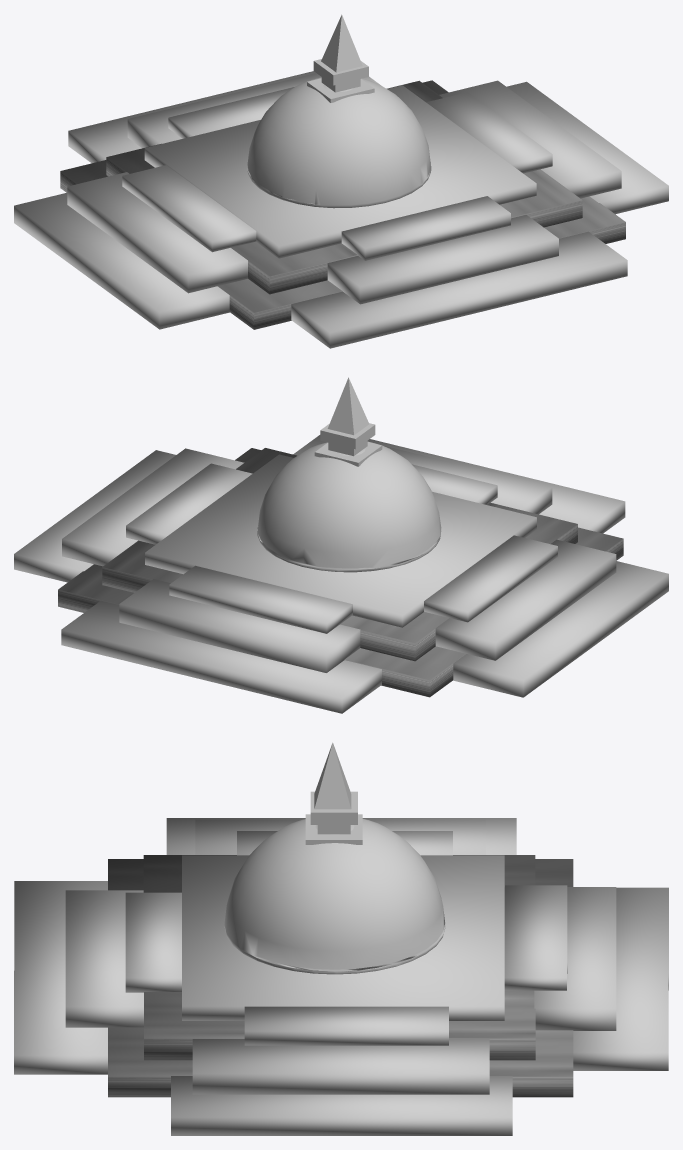
File: stupa.obj
3 views of the same model, one above another, from view 1: azimuth 30°, elevation 25°; view 2: azimuth 150°, elevation 25°; view 3: azimuth 270°, elevation 25° (orthographic). The views are drawn at different scales.
Parts seen in each view (by area): view 1: Cube.014_Cube.016, Sphere, Cube.004_Cube.006, Cube.002_Cube.004, Cube.005_Cube.007, Cube.007_Cube.009, Cube.009_Cube.011, Cube_Cube.001, Cube.006_Cube.008, Cube.010_Cube.012, Cube.012_Cube.014, Cube.003_Cube.005 (+7 smaller); view 2: Cube.014_Cube.016, Sphere, Cube.001_Cube.003, Cube.002_Cube.004, Cube.008_Cube.010, Cube.007_Cube.009, Cube.009_Cube.011, Cube_Cube.001, Cube.013_Cube.015, Cube.006_Cube.008, Cube.012_Cube.014, Cube.003_Cube.005 (+7 smaller); view 3: Cube.014_Cube.016, Sphere, Cube.006_Cube.008, Cube.003_Cube.005, Cube.004_Cube.006, Cube.001_Cube.003, Cube.009_Cube.011, Cube_Cube.001, Cube.005_Cube.007, Cube.008_Cube.010, Cube.011_Cube.013, Cube.013_Cube.015 (+7 smaller).
Part boxes in pixels (x1,y1,x2,y2): Cube.014_Cube.016: (144, 85, 536, 258); Sphere: (247, 77, 431, 208); Cube.004_Cube.006: (291, 231, 627, 348); Cube.002_Cube.004: (14, 192, 229, 329); Cube.005_Cube.007: (327, 215, 558, 304); Cube.007_Cube.009: (67, 172, 247, 293); Cube.009_Cube.011: (106, 80, 582, 294); Cube_Cube.001: (60, 80, 625, 329); Cube.006_Cube.008: (439, 80, 621, 198); Cube.010_Cube.012: (341, 196, 510, 260); Cube.012_Cube.014: (122, 165, 256, 252); Cube.003_Cube.005: (507, 81, 668, 214); Cube.014_Cube.016: (145, 454, 536, 627); Sphere: (257, 441, 441, 572); Cube.001_Cube.003: (61, 600, 381, 713); Cube.002_Cube.004: (453, 561, 668, 697); Cube.008_Cube.010: (119, 579, 360, 672); Cube.007_Cube.009: (435, 539, 616, 660); Cube.009_Cube.011: (102, 448, 577, 661); Cube_Cube.001: (58, 448, 623, 697); Cube.013_Cube.015: (169, 565, 352, 633); Cube.006_Cube.008: (62, 448, 244, 566); Cube.012_Cube.014: (424, 535, 557, 622); Cube.003_Cube.005: (14, 450, 175, 582); Cube.014_Cube.016: (182, 855, 504, 1020); Sphere: (224, 819, 445, 974); Cube.006_Cube.008: (192, 1039, 489, 1094); Cube.003_Cube.005: (171, 1076, 512, 1135); Cube.004_Cube.006: (14, 881, 107, 1074); Cube.001_Cube.003: (573, 887, 668, 1070); Cube.009_Cube.011: (143, 855, 535, 1060); Cube_Cube.001: (108, 859, 573, 1097); Cube.005_Cube.007: (65, 890, 143, 1027); Cube.008_Cube.010: (534, 887, 616, 1030); Cube.011_Cube.013: (244, 1006, 448, 1045); Cube.013_Cube.015: (504, 885, 567, 990).
Size of the model in its own units: 34.07 by 12.95 by 31.47.
